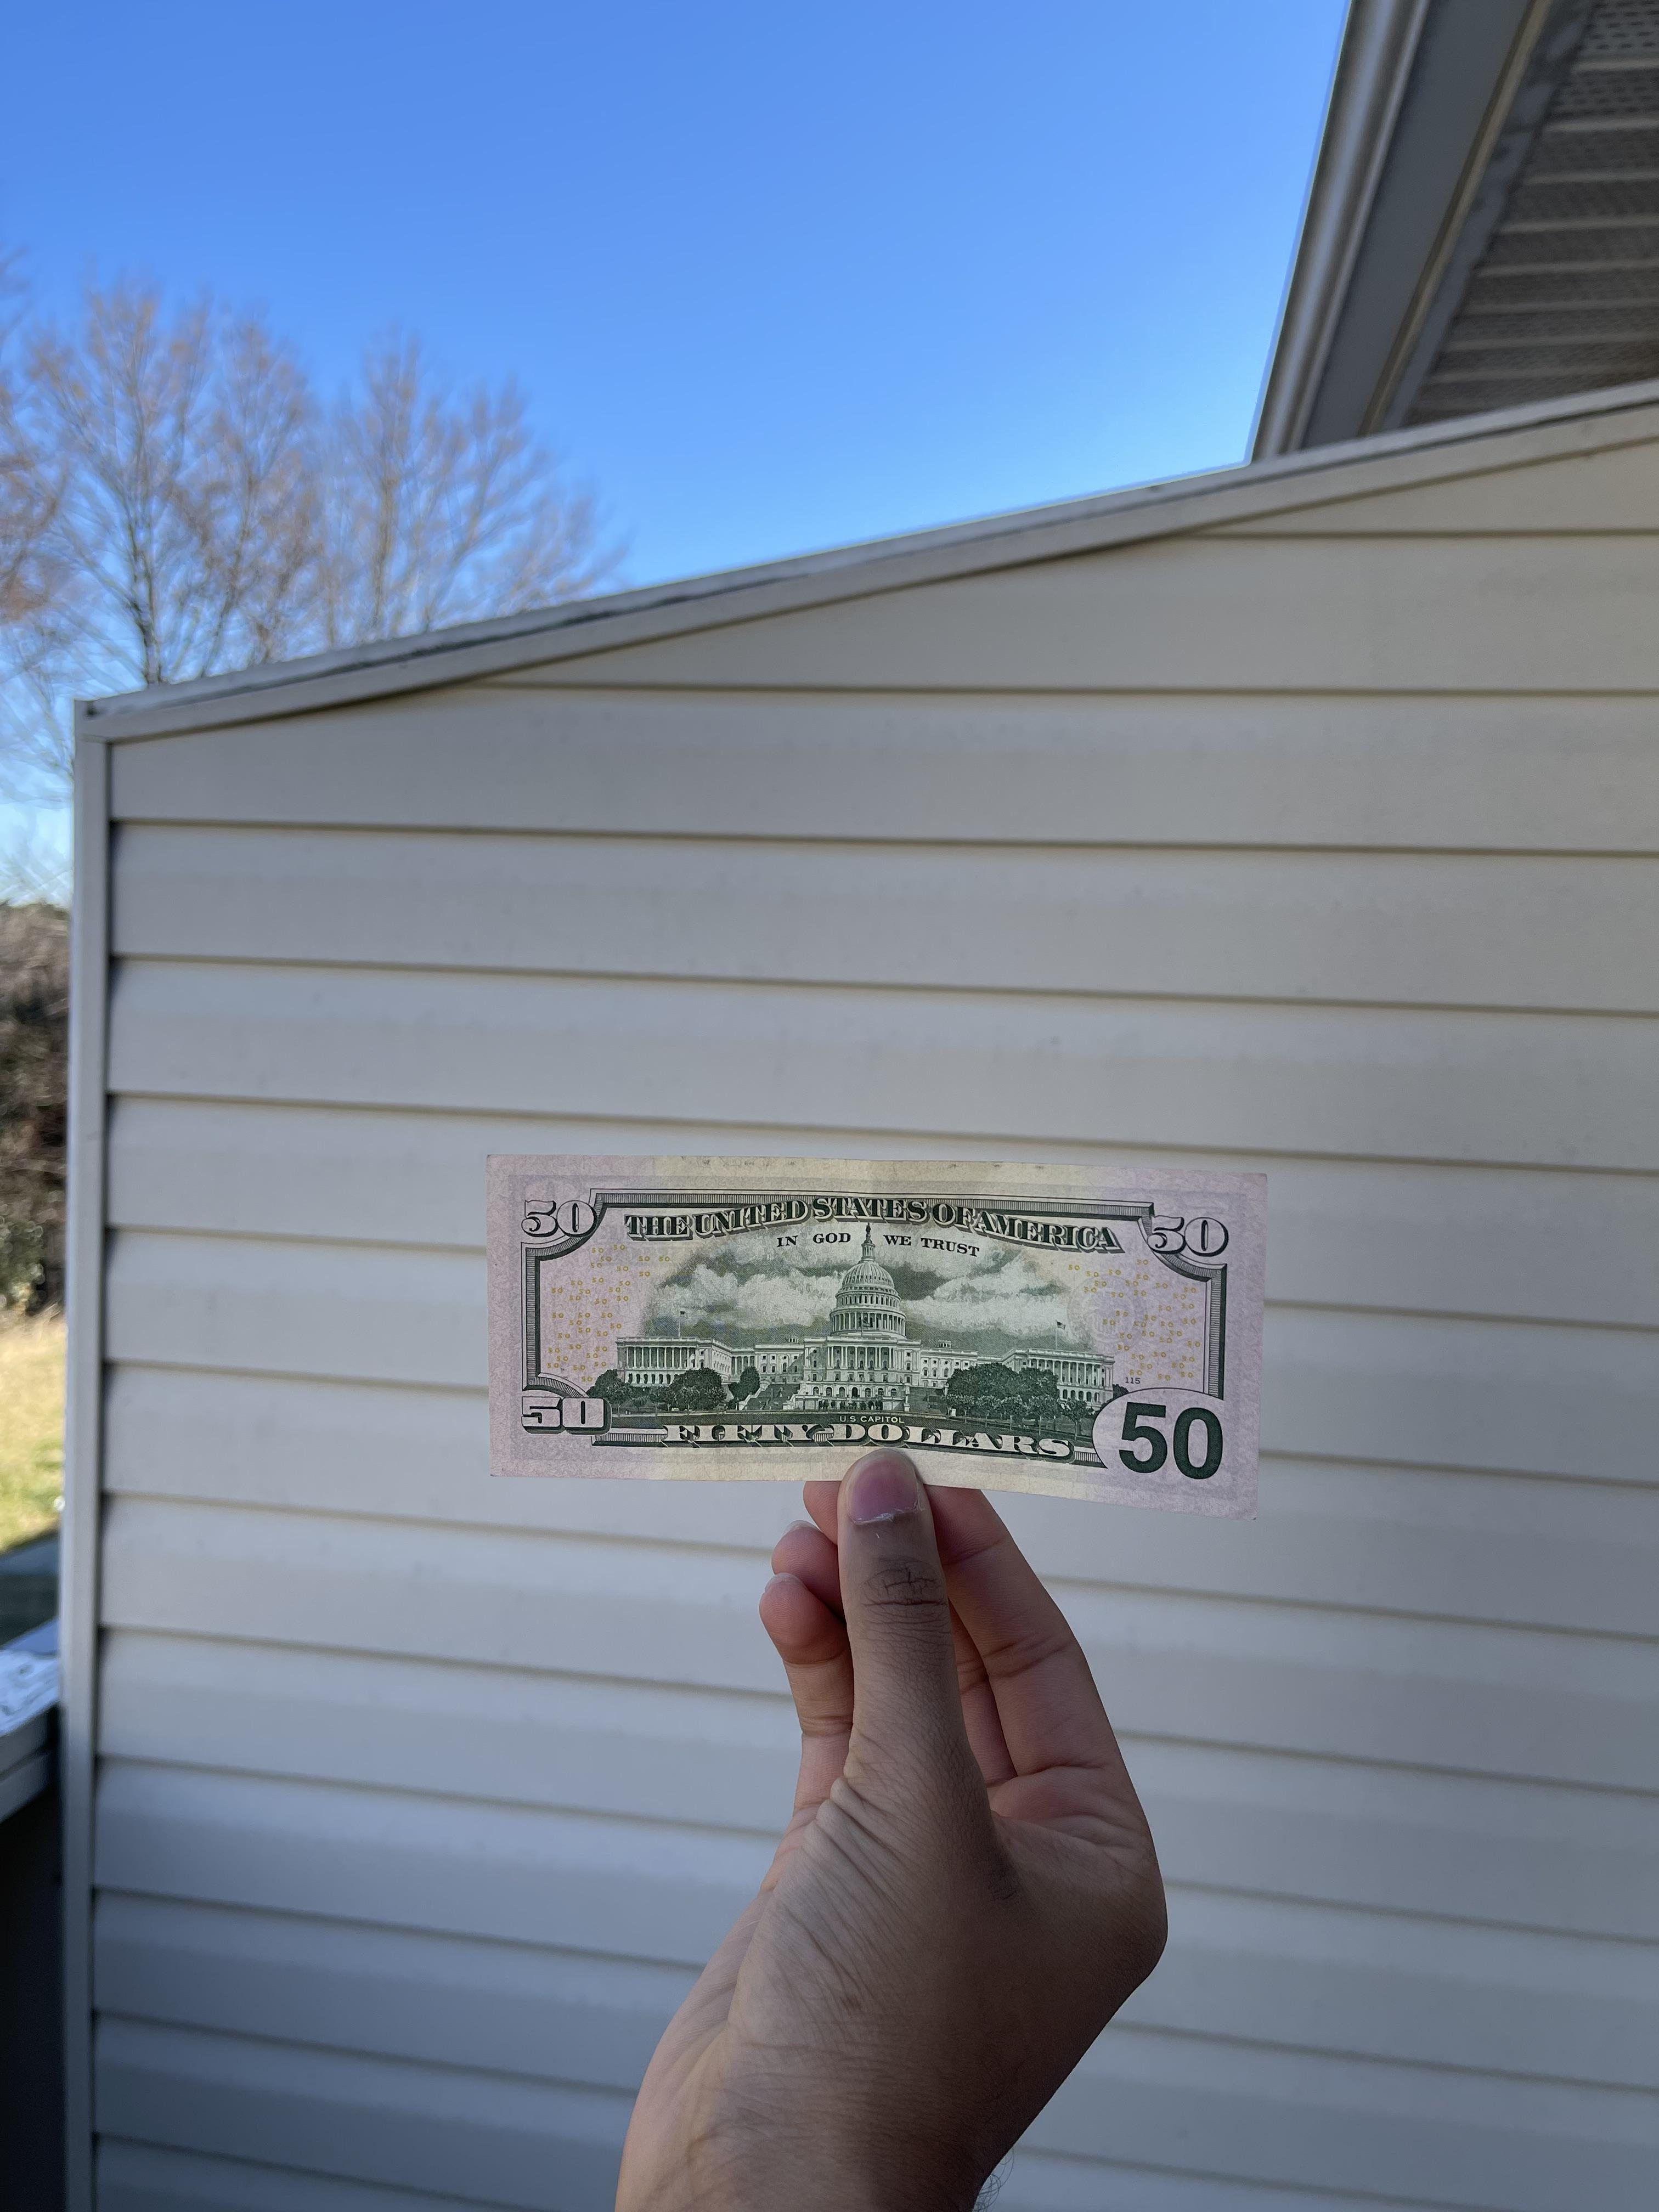FiftyBill: (483, 1151, 1269, 1521)
